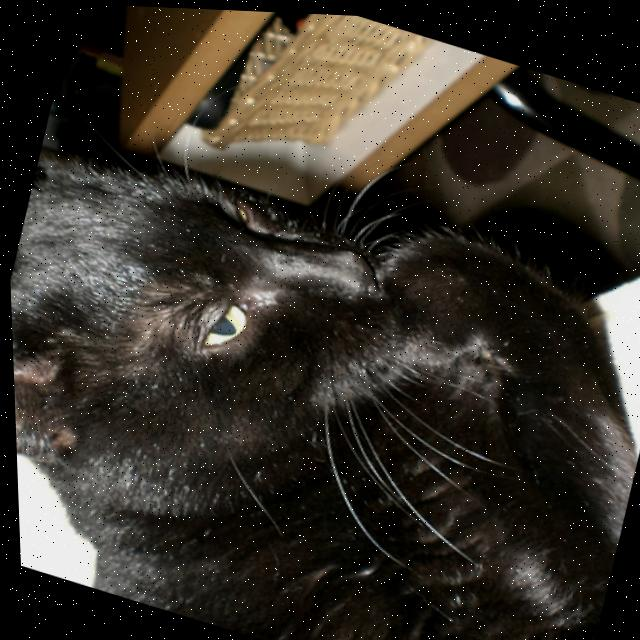Bombay: (3, 101, 640, 640)
